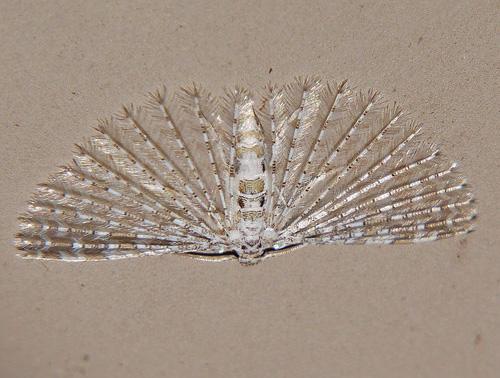Alucitidae: (7, 63, 487, 266)
moth: (9, 65, 489, 268)
